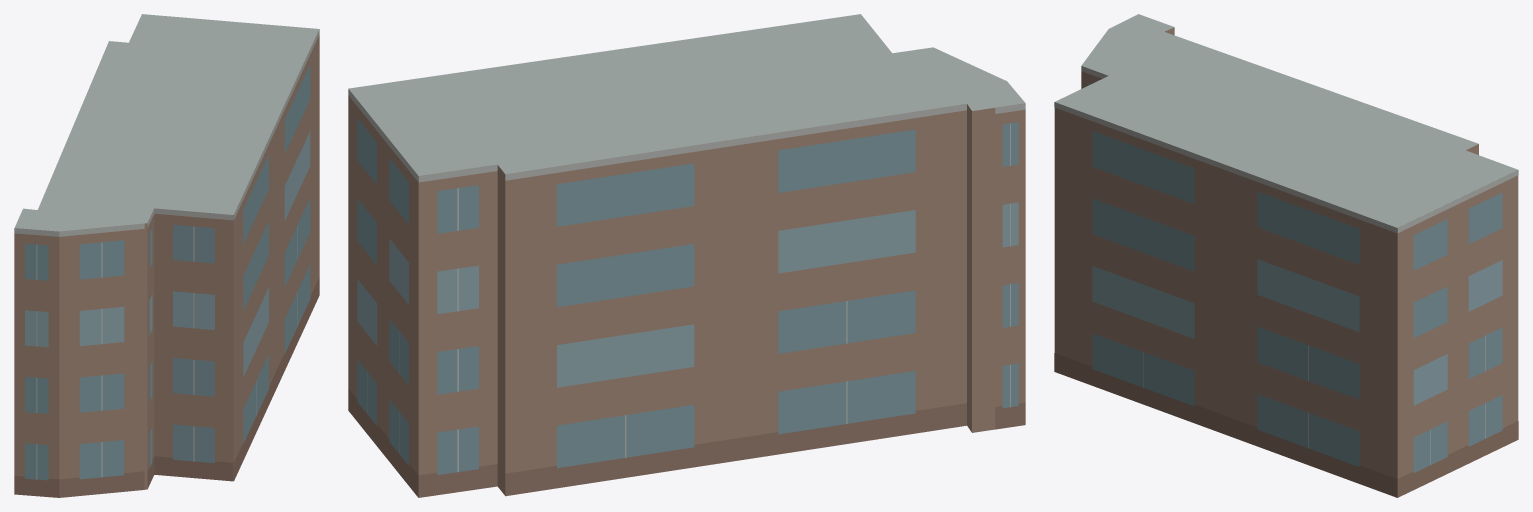
Rendered from survey-upis-32527386.glb.
3 views of the same model, side by side, from view 1: azimuth 30°, elevation 25°; view 2: azimuth 150°, elevation 25°; view 3: azimuth 270°, elevation 25° (orthographic). The views are drawn at different scales.
Visible parts, largest first — view 1: survey-upis-32527386.tmp; view 2: survey-upis-32527386.tmp; view 3: survey-upis-32527386.tmp.
Part boxes in pixels (x1,y1,x2,y2): survey-upis-32527386.tmp: (14,14,319,497); survey-upis-32527386.tmp: (348,14,1025,497); survey-upis-32527386.tmp: (1054,14,1518,497).
Size of the model in its own units: 20.76 by 12.2 by 19.02.
